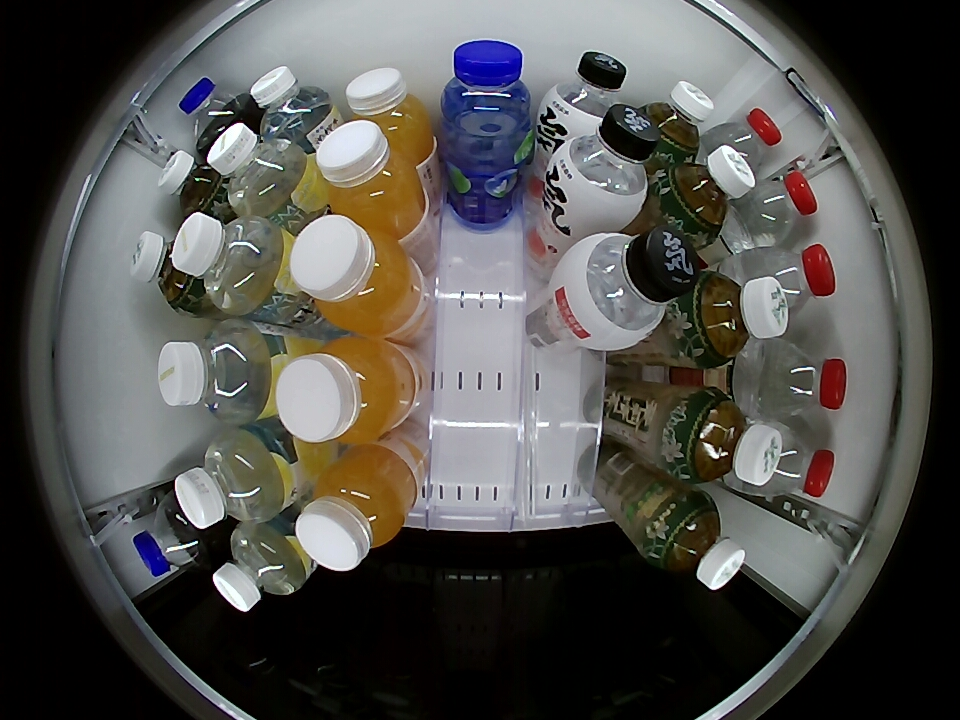baishikele-2: (133, 496, 212, 577), (178, 77, 250, 150)
maidong: (441, 39, 532, 149)
moliqingcha: (670, 388, 782, 488), (679, 272, 790, 367), (645, 491, 746, 590), (658, 145, 756, 242), (638, 81, 713, 161), (130, 230, 200, 311), (158, 151, 226, 217)
nongfushanquan: (745, 244, 837, 320), (761, 342, 848, 416), (740, 170, 818, 246), (759, 425, 835, 499), (712, 106, 783, 174)
qinningshui: (158, 321, 270, 425), (172, 212, 283, 315), (173, 430, 288, 529), (208, 123, 309, 216), (212, 523, 308, 612), (249, 66, 332, 141)
weic: (291, 215, 421, 336), (295, 446, 418, 570), (276, 338, 414, 444), (316, 121, 431, 238), (345, 67, 435, 163)
yuanqishui: (555, 227, 698, 350), (549, 105, 662, 226), (542, 52, 627, 133)
